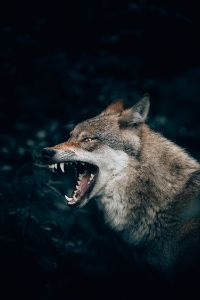wolf: (40, 92, 193, 264)
